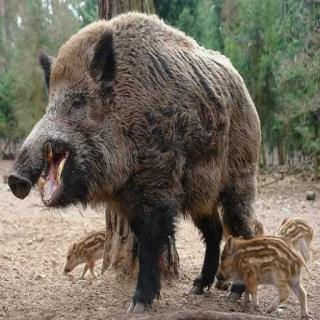Pig: (10, 7, 272, 308), (216, 225, 310, 315)
